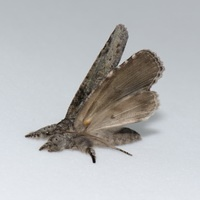insect: (25, 24, 163, 162)
